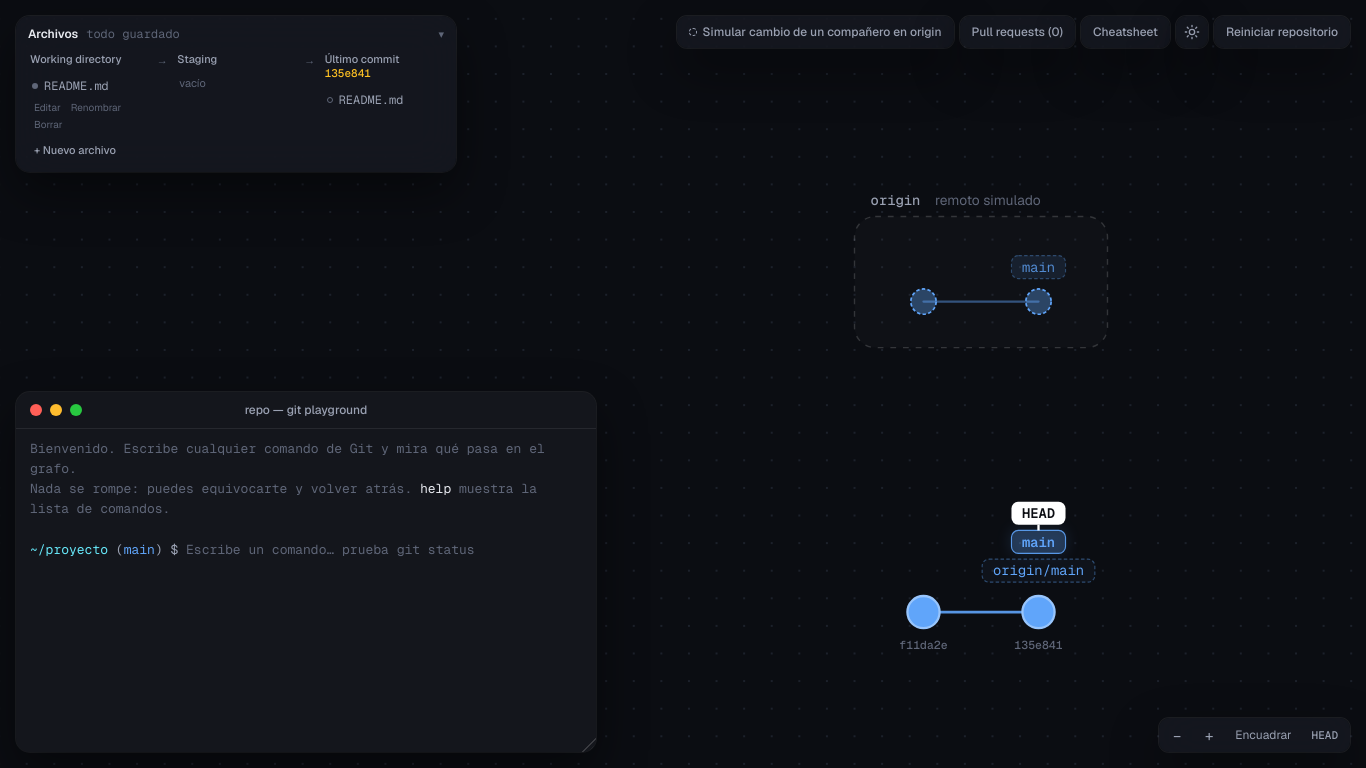
it: PlaygroundShell › opens the hosting web view from the ActionBar "Pull requests" button and closes it again
The image size is (1366, 768).
Click the button "Pull requests (0)" at (1017, 32), box [960,16,1075,48]
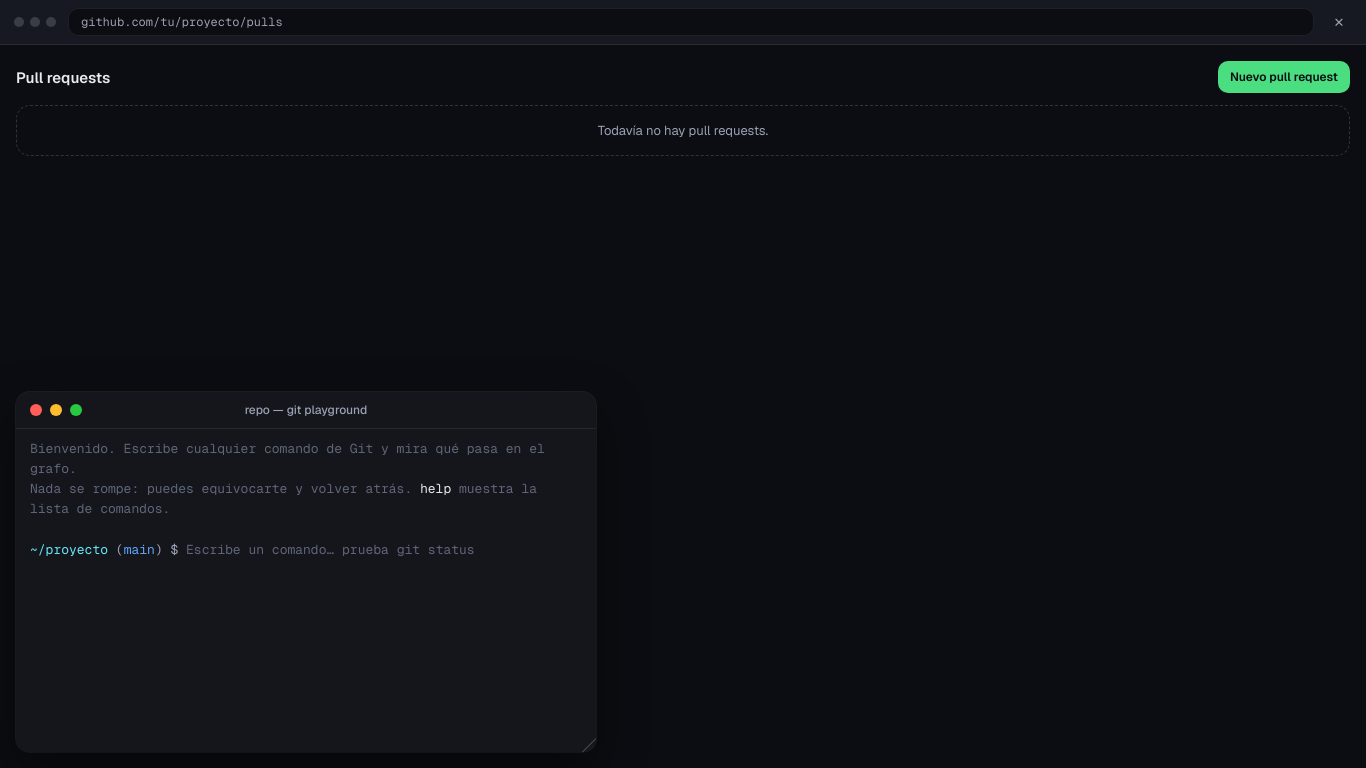
Result: the text "github.com/tu/proyecto/pulls" is shown at [68,8,1314,36]
Click the button named "Volver al repositorio" at (1339, 22), box [1326,9,1352,35]
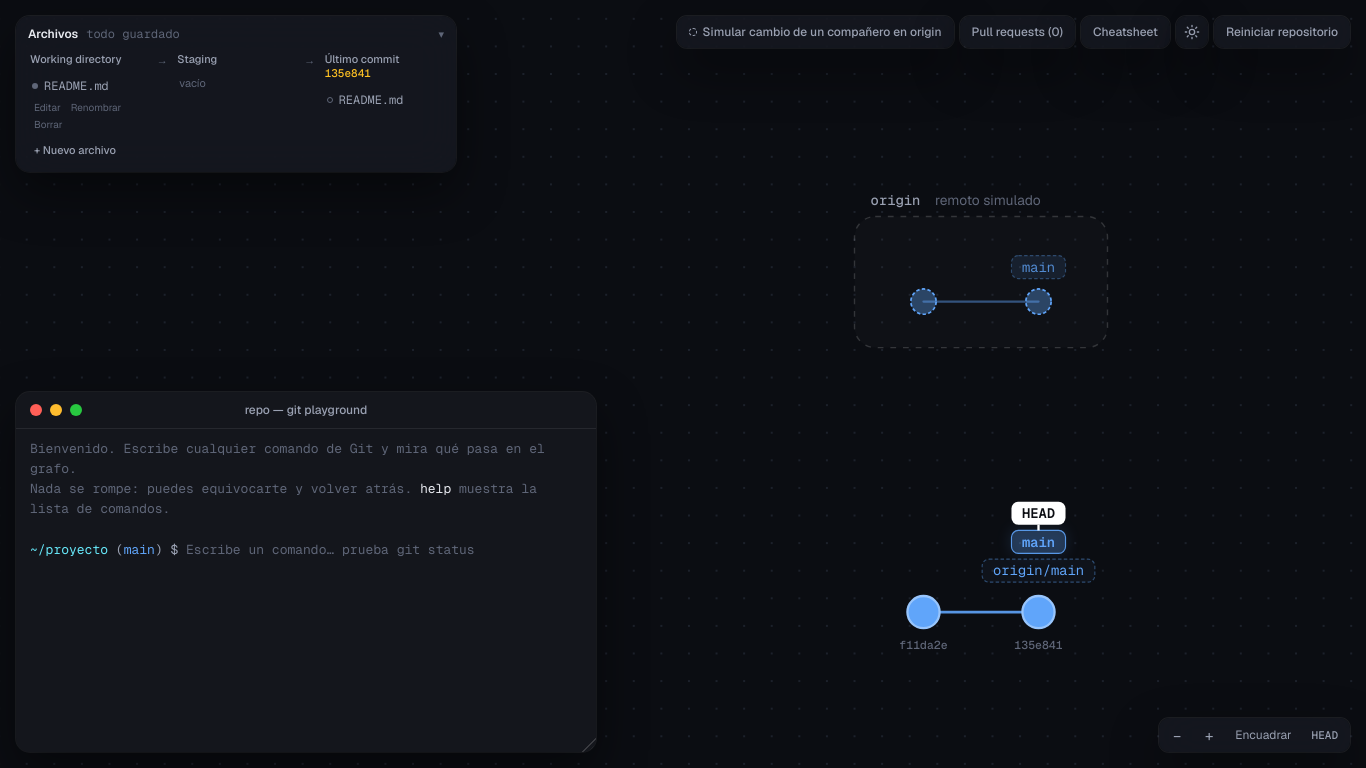
Result: the text "github.com/tu/proyecto/pulls" is gone
